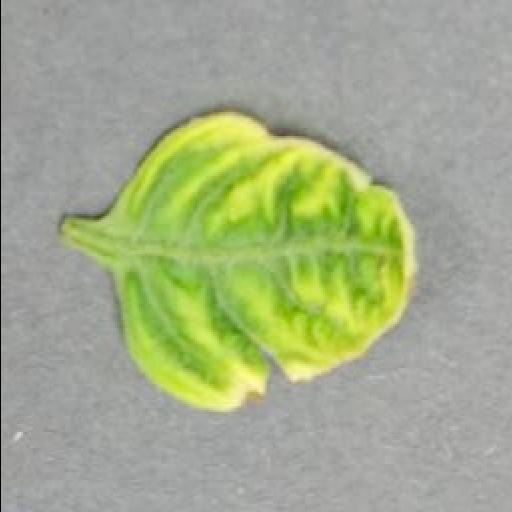disease_tomato: (110, 112, 420, 410)
